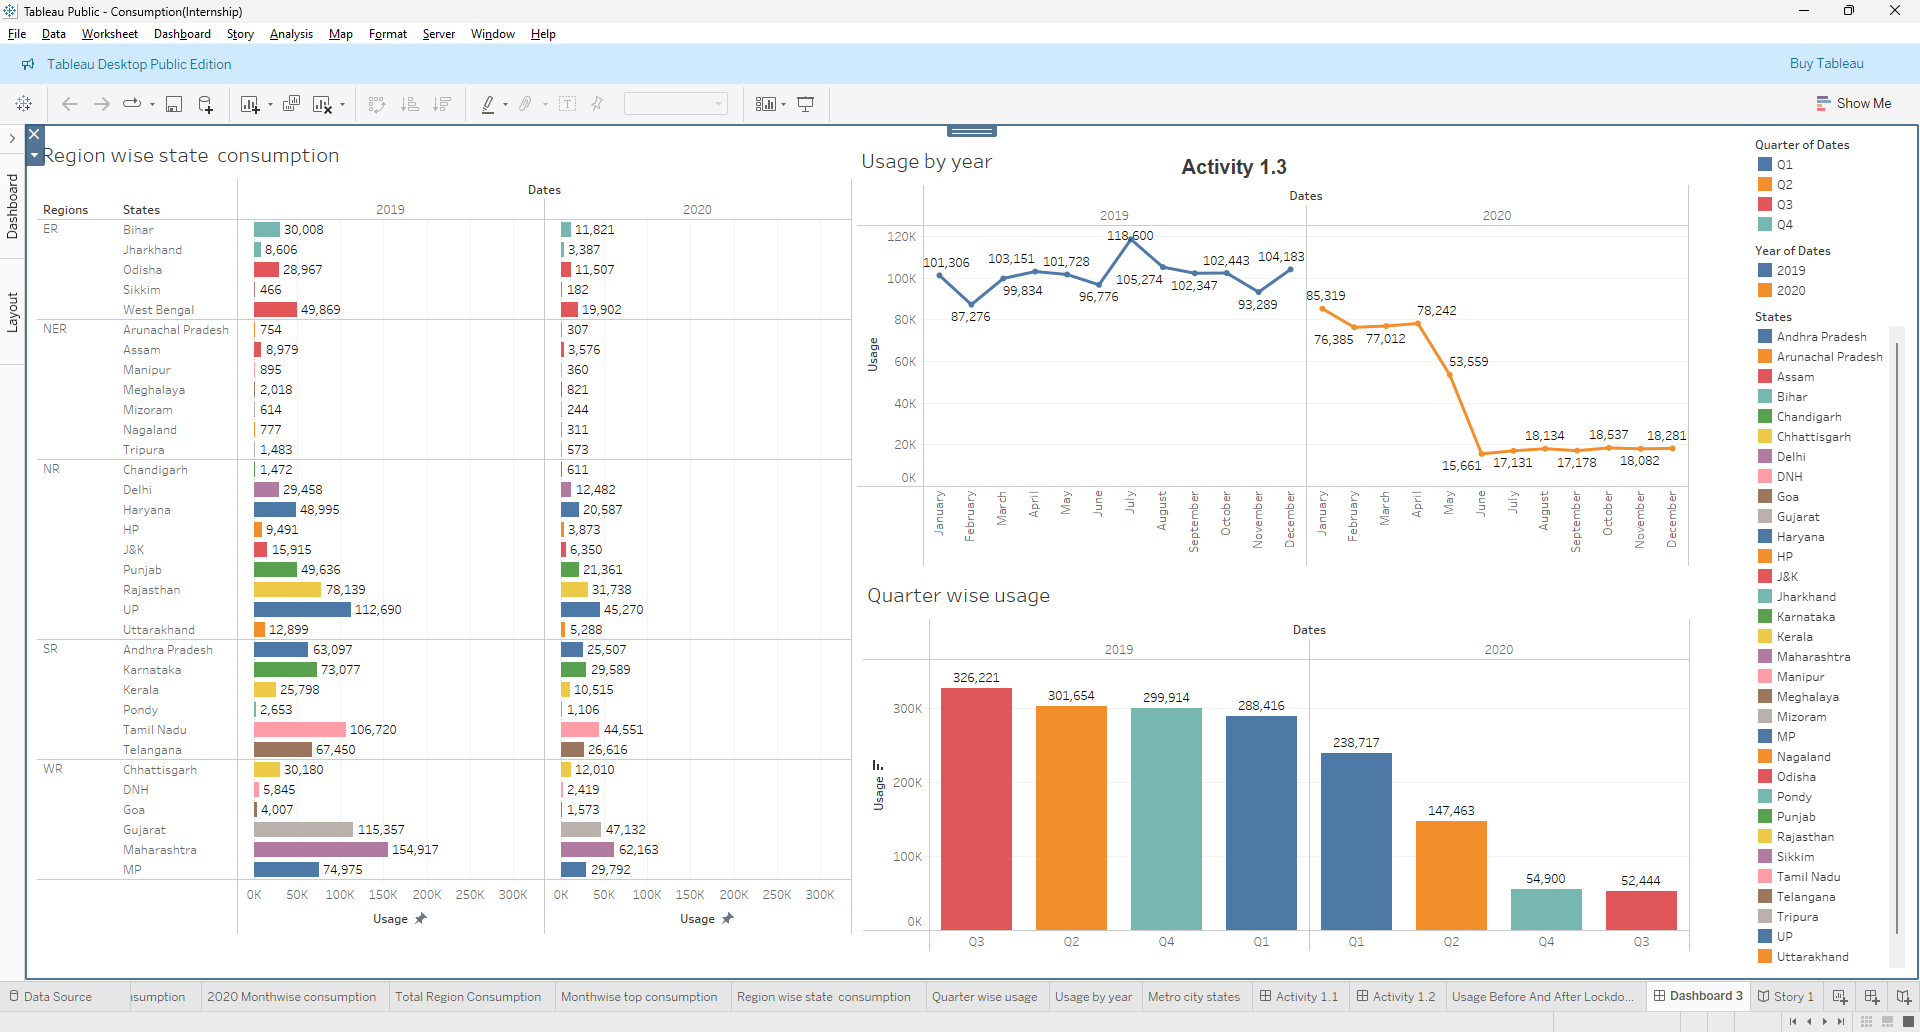

The dashboard page shown, as its layout file describes it:
{"tool":"tableau","page":{"name":"Dashboard 3","canvas":[1000,1000],"units":"permille","ordinal":2},"visuals":[{"type":"worksheet","title":"Region wise state  consumption","mark":"Bar","rows":["Regions","States"],"cols":["Dates","Usage"],"box":[4.7,9.3,430,981.3]},{"type":"text","box":[434.7,9.3,467,981.3]},{"type":"legend","title":"Quarter wise usage","param":"[federated.0mln1pv09h2lre16xwj060pckrwt].[qr:Dates:ok]","box":[901.7,9.3,93.6,123.8]},{"type":"worksheet","title":"Usage by year","mark":"Automatic","rows":["Usage"],"cols":["Dates","Dates"],"box":[439.2,21,439.2,496.5]},{"type":"text","box":[609.1,32.7,65.3,35.1]},{"type":"legend","title":"Usage by year","param":"[federated.0mln1pv09h2lre16xwj060pckrwt].[yr:Dates:ok]","box":[901.7,133.2,93.6,77.1]},{"type":"legend","title":"Region wise state  consumption","param":"[federated.0mln1pv09h2lre16xwj060pckrwt].[none:States:nk]","box":[901.7,210.3,93.6,780.4]},{"type":"worksheet","title":"Quarter wise usage","mark":"Bar","rows":["Usage"],"cols":["Dates","Dates"],"box":[442.7,528,436.8,439.2]}]}

Visuals, with their boxes on the dashboard's canvas, which has no fixed pixel size, in thousandths of its width and height (x1, y1, x2, y2). These are canvas units, not pixel positions in the 1920x1032 screenshot, which may show the page scaled, cropped or inside an application window:
"Region wise state  consumption" worksheet (Bar marks): bbox=(5, 9, 435, 991)
text: bbox=(435, 9, 902, 991)
"Quarter wise usage" legend: bbox=(902, 9, 995, 133)
"Usage by year" worksheet: bbox=(439, 21, 878, 518)
text: bbox=(609, 33, 674, 68)
"Usage by year" legend: bbox=(902, 133, 995, 210)
"Region wise state  consumption" legend: bbox=(902, 210, 995, 991)
"Quarter wise usage" worksheet (Bar marks): bbox=(443, 528, 880, 967)
